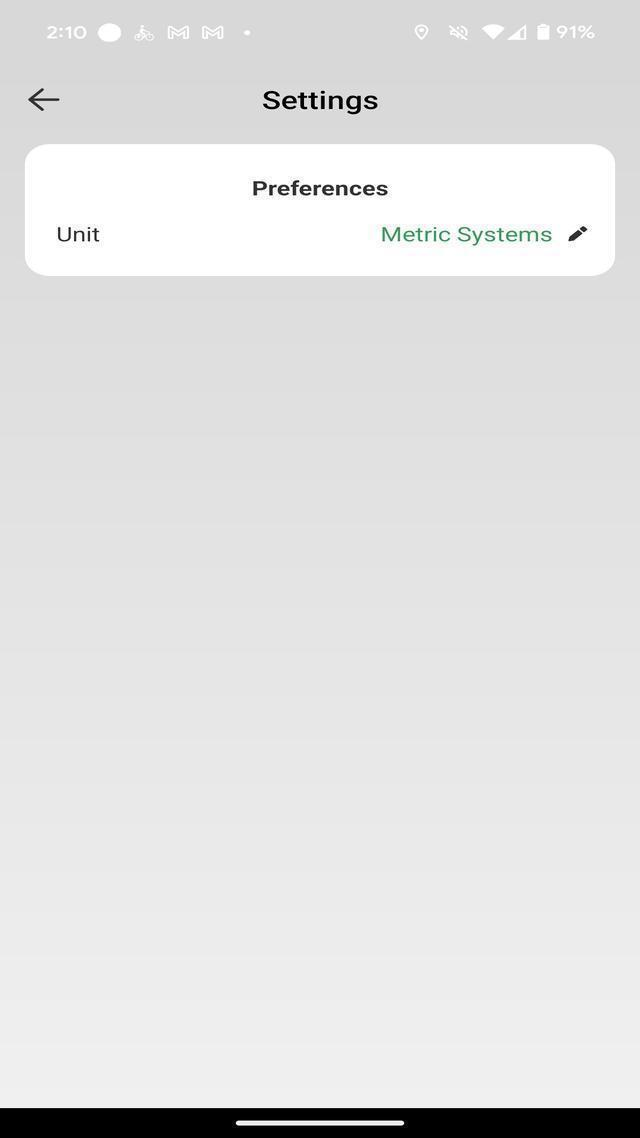Icon: (28, 88, 62, 119), (564, 214, 594, 247), (95, 20, 124, 44), (130, 22, 156, 45), (446, 22, 470, 46), (164, 23, 191, 43), (200, 23, 227, 43), (479, 22, 506, 42), (508, 22, 530, 44), (535, 20, 551, 44), (414, 25, 430, 45), (240, 24, 254, 38)
Text: (246, 169, 398, 212), (372, 217, 556, 250), (253, 87, 385, 118), (44, 219, 116, 252), (44, 22, 90, 44), (554, 22, 600, 42)
TextButton: (14, 140, 620, 281)
